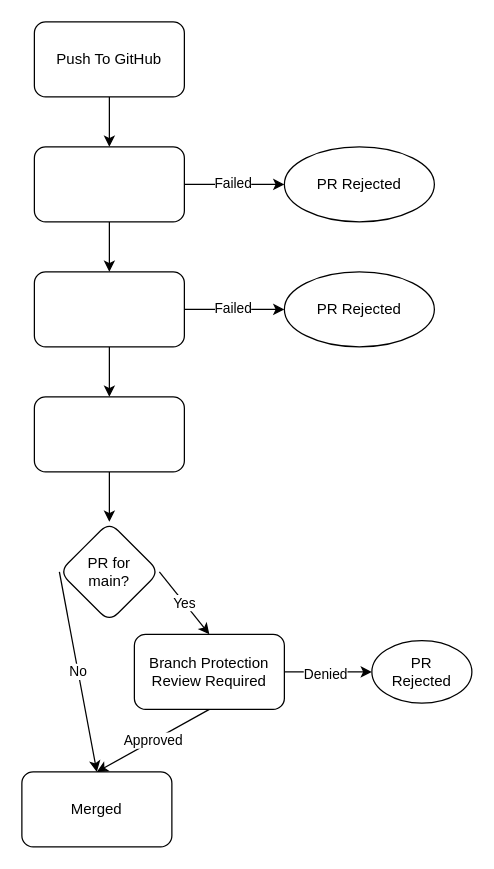
This 494x869 diagram has some shape labels left out. Here are the shapes that lost their labels. From the top down, the centre of each, then its label:
At [108,184]: "Markdown Lint".
At [108,309]: "Jest Unit Testing".
At [108,434]: "JSDocs Generation".
